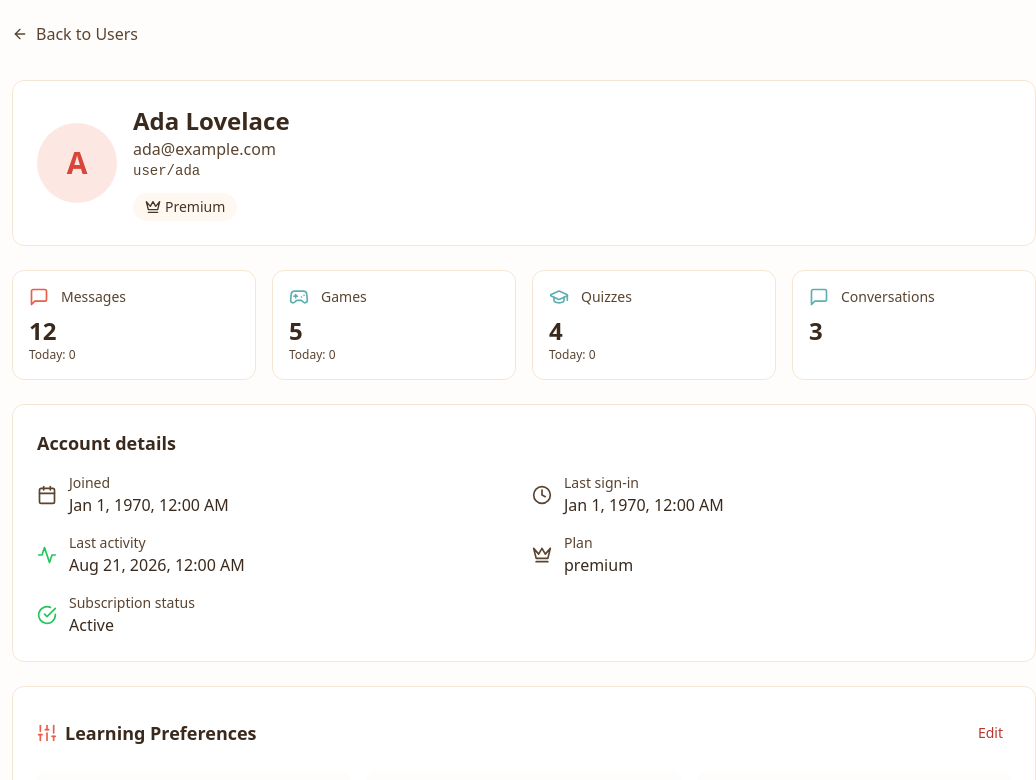
Test: restorable admin user navigation › rejects an external detail return target
Click the link "Back to Users": (75, 34) [12,23,138,45]
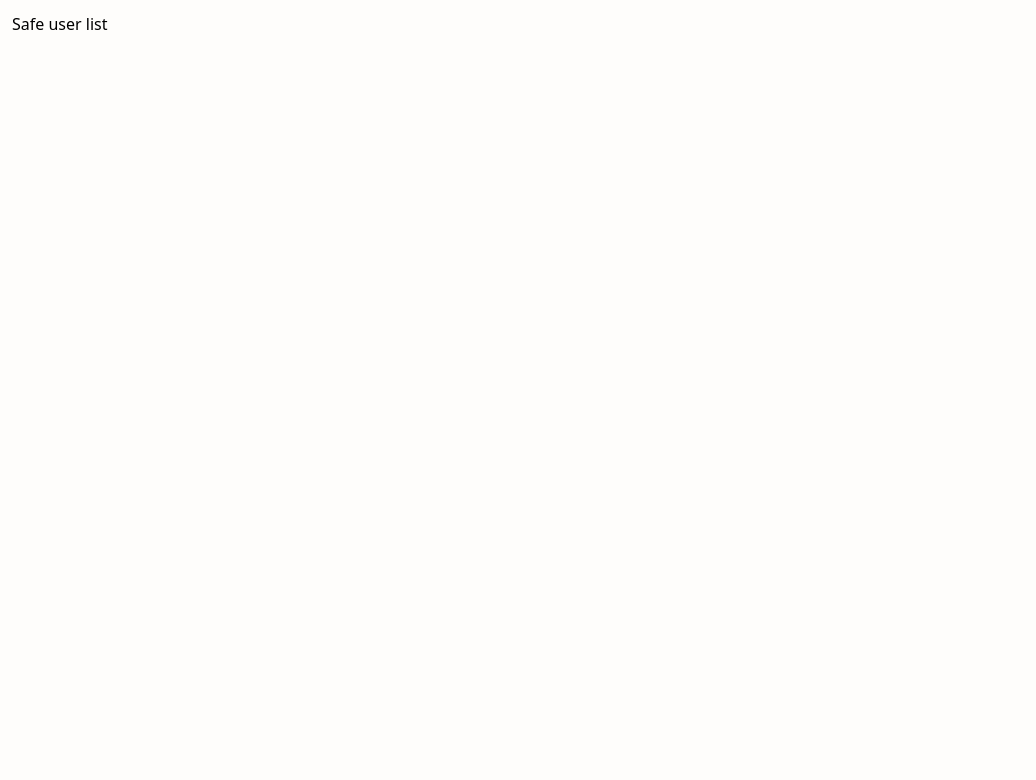
Expected: the text "Safe user list" is shown, [12,13,108,35]
